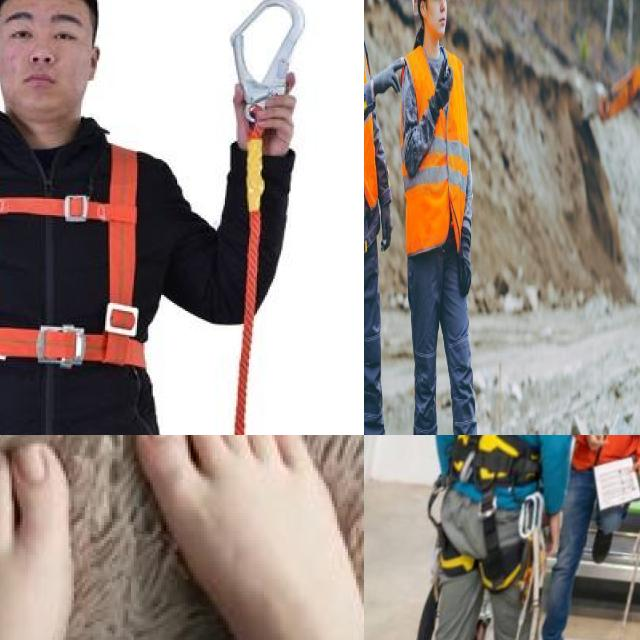Barefoots: (132, 435, 364, 640)
Harness: (0, 134, 159, 435), (438, 435, 541, 592), (223, 0, 316, 161)
No_Ear-Protection: (419, 0, 427, 22)
No_Glasses: (1, 10, 80, 50), (431, 0, 448, 6)
face_nomask: (423, 0, 449, 38)
hand_glove: (426, 68, 459, 118), (373, 187, 396, 250), (454, 232, 476, 296), (372, 61, 406, 96)
person: (401, 0, 484, 435), (364, 0, 397, 435)
vest: (402, 46, 472, 254)
